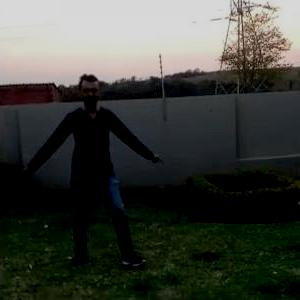land: (40, 83, 141, 231)
